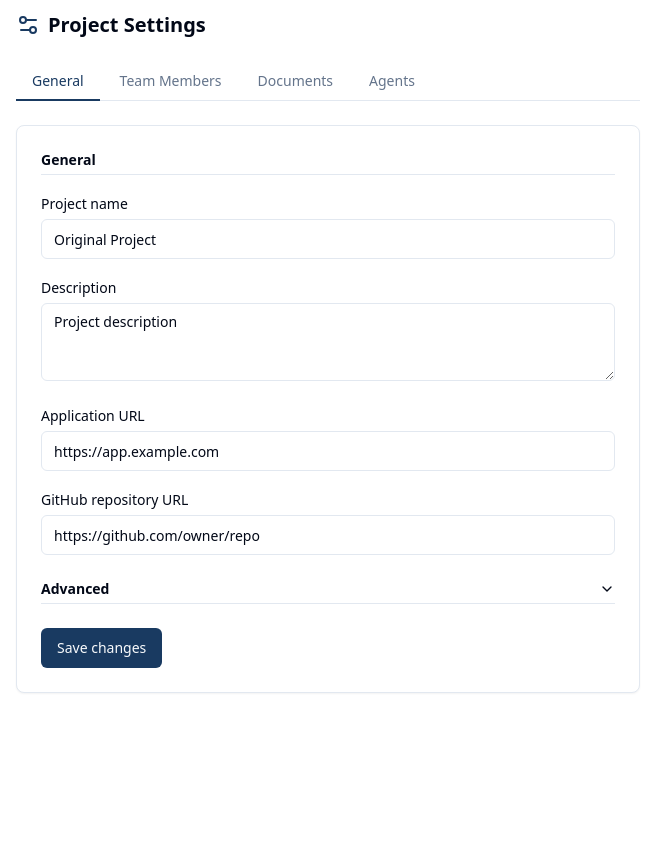
Test: ProjectSettingsPage › Advanced settings section (AC4) › can remove a tag
Click the button with test id "toggle-advanced": (75, 588) [41,579,615,604]
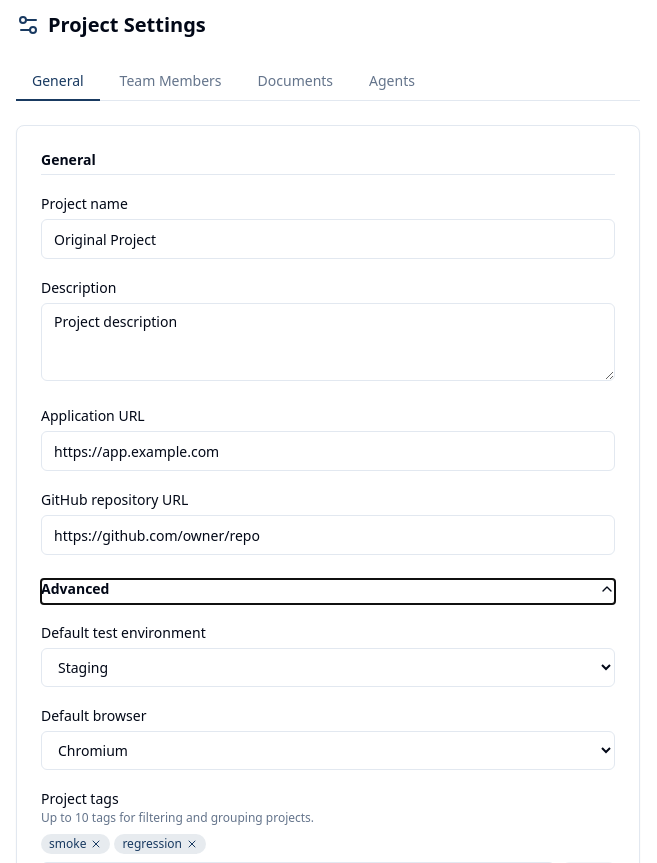
Now the button with test id "remove-tag-0" is shown
Click the button with test id "remove-tag-0": (96, 844) [90,838,102,850]
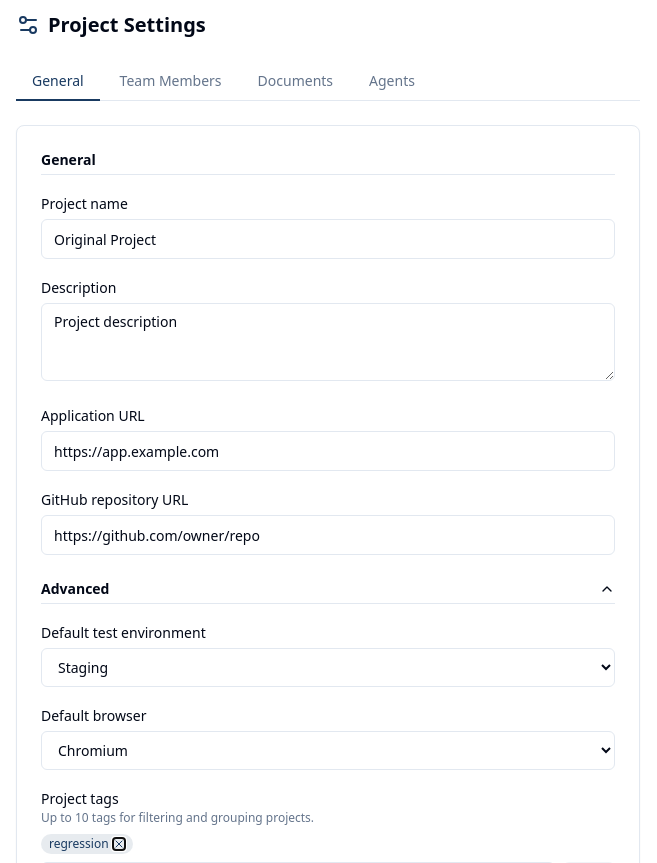
Now the text "smoke" is gone
